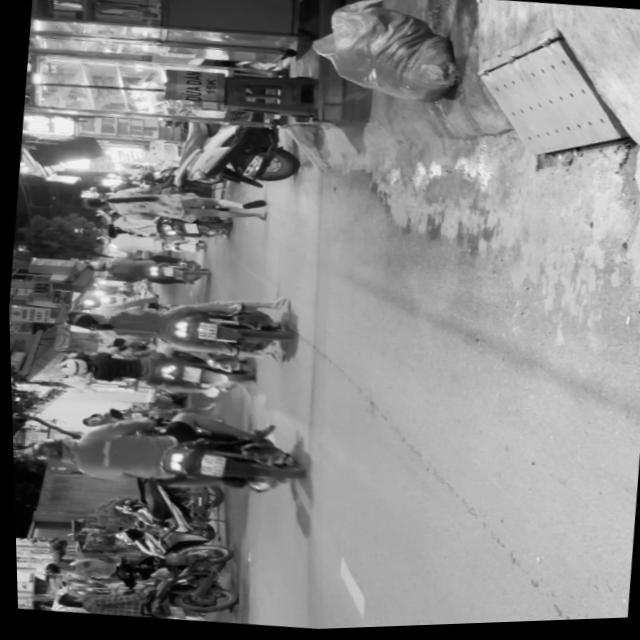helmet: (25, 437, 72, 466), (56, 356, 88, 378)
licenseplate: (22, 395, 304, 508), (56, 279, 295, 370), (51, 335, 255, 407)
motorcyclist: (70, 311, 108, 334)
nohelmet: (195, 455, 222, 479), (193, 322, 215, 341)
